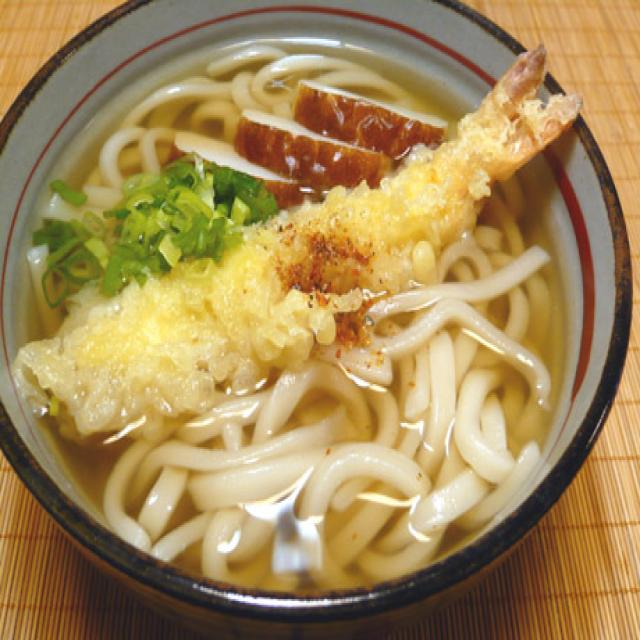面条主食: (10, 39, 566, 603)
